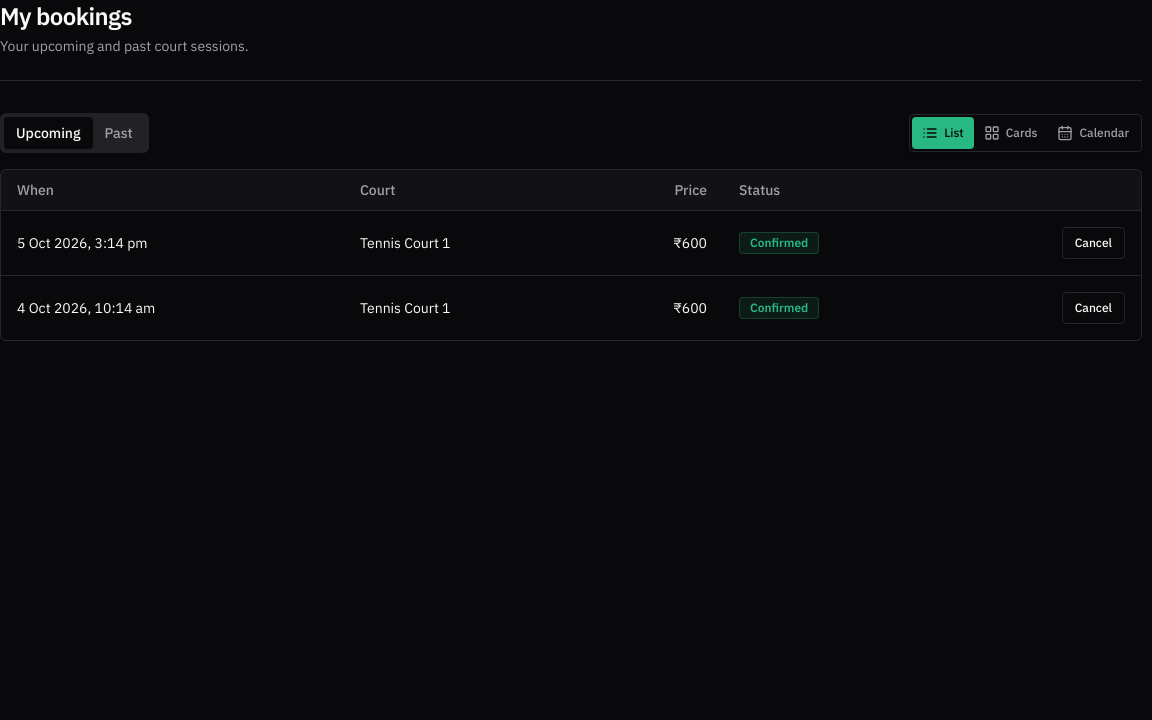
bookings page › explains the free window and cancels the chosen booking
This screenshot has width=1152, height=720.
Click the button with aria-label "Cancel Tennis Court 1" at (1093, 242), box [1062,226,1125,258]
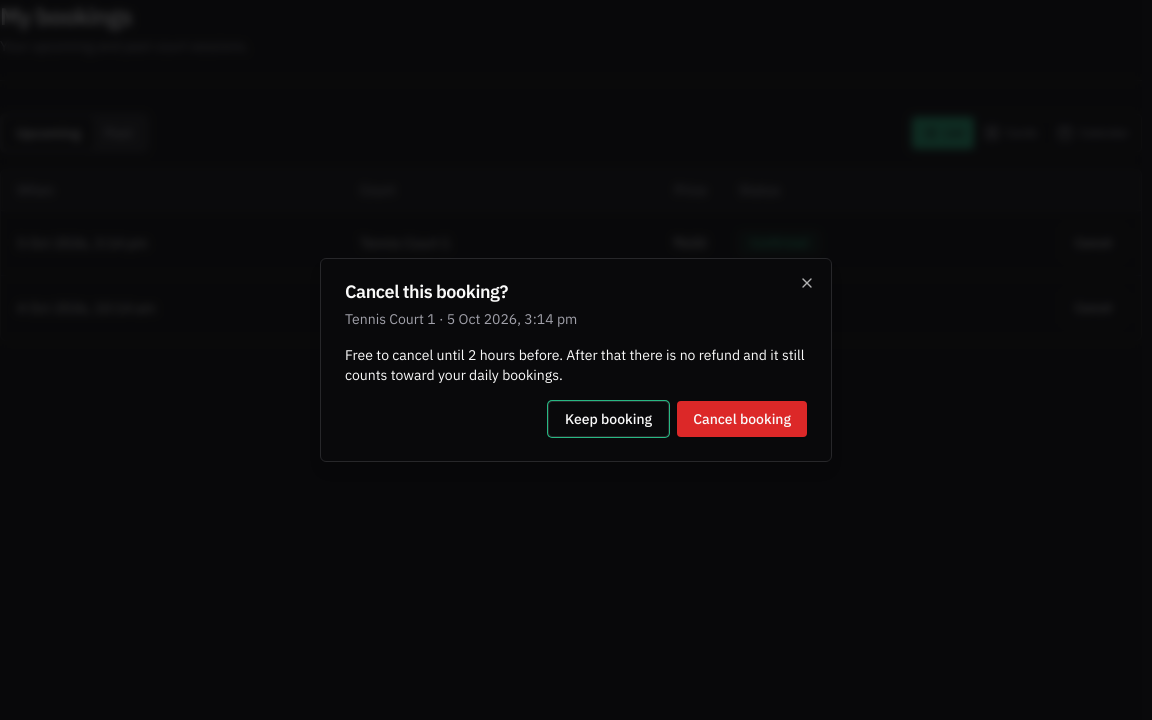
Check: the dialog shows "Free to cancel until 2 hours before", box [345,346,805,384]
Click the button "Cancel booking" at (742, 419), box [677,401,807,437]
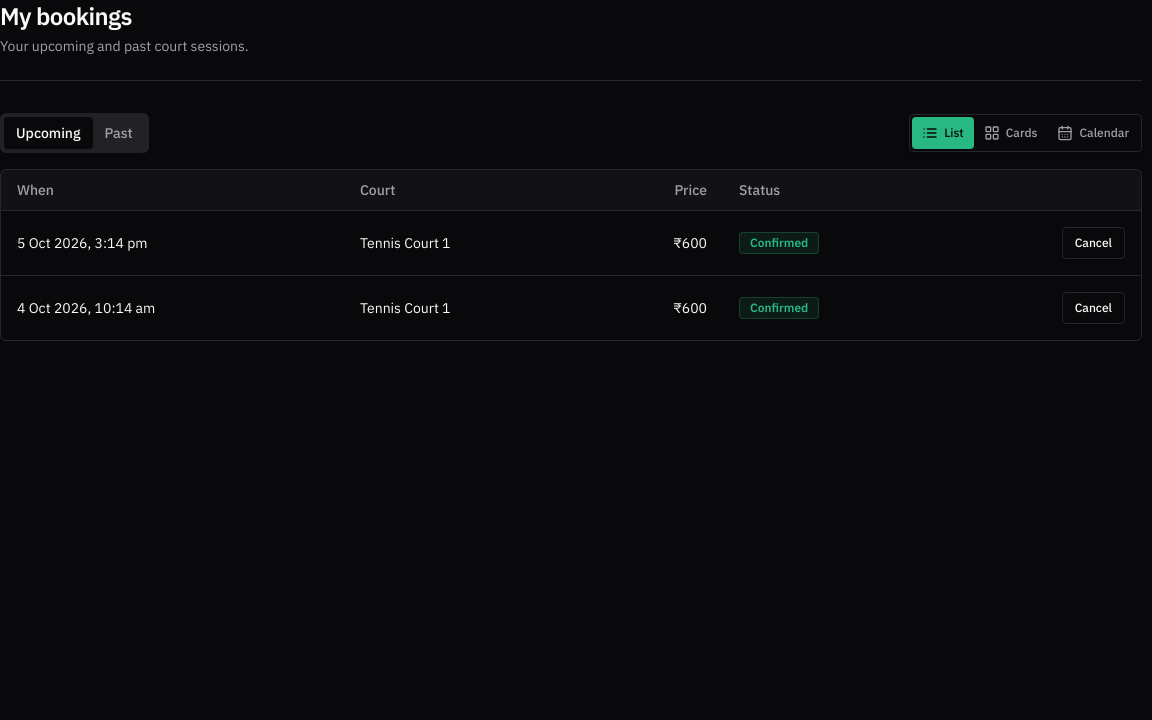
Check: the dialog is gone
